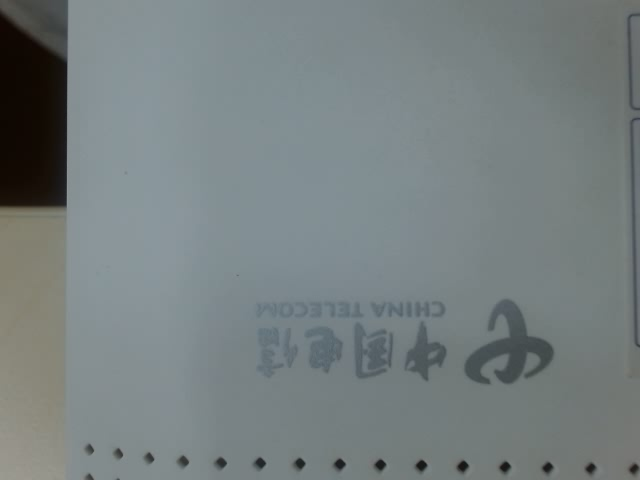AB_ChinaTelecom: (243, 291, 574, 394)
